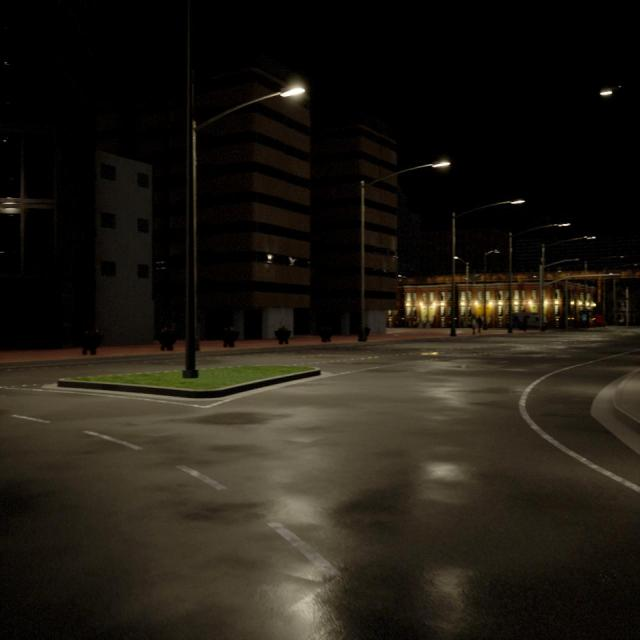Pedestrian: (472, 315, 476, 335), (477, 315, 481, 334)
Vehicle: (514, 313, 545, 329)
